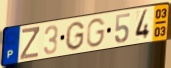3: (43, 25, 59, 56)
4: (133, 8, 151, 42)
5: (113, 11, 131, 45)
G: (64, 21, 86, 52), (86, 17, 107, 49)
Z: (19, 26, 41, 61)
